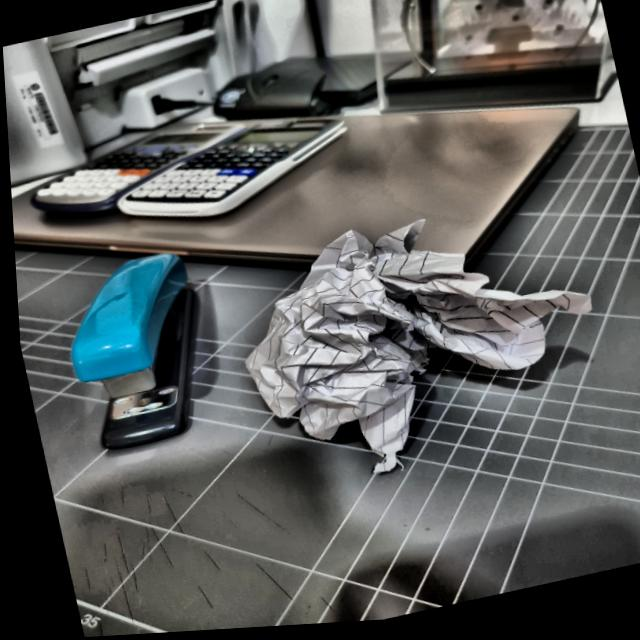Paper: (221, 188, 574, 499)
